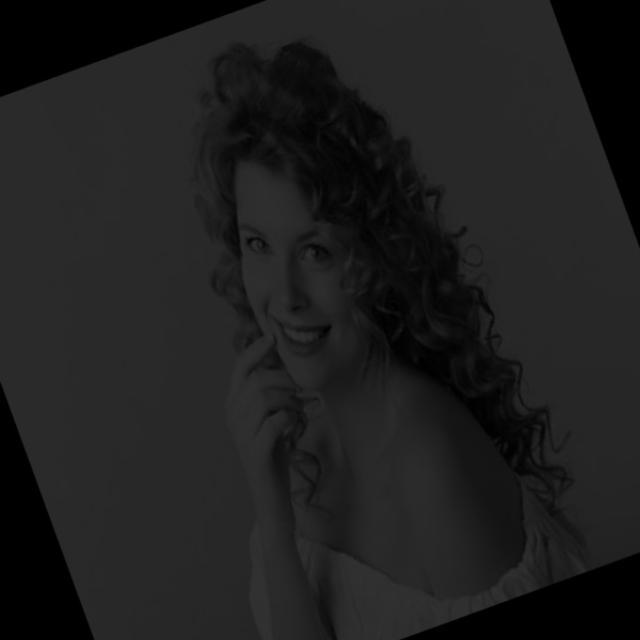happy: (190, 122, 412, 423)
